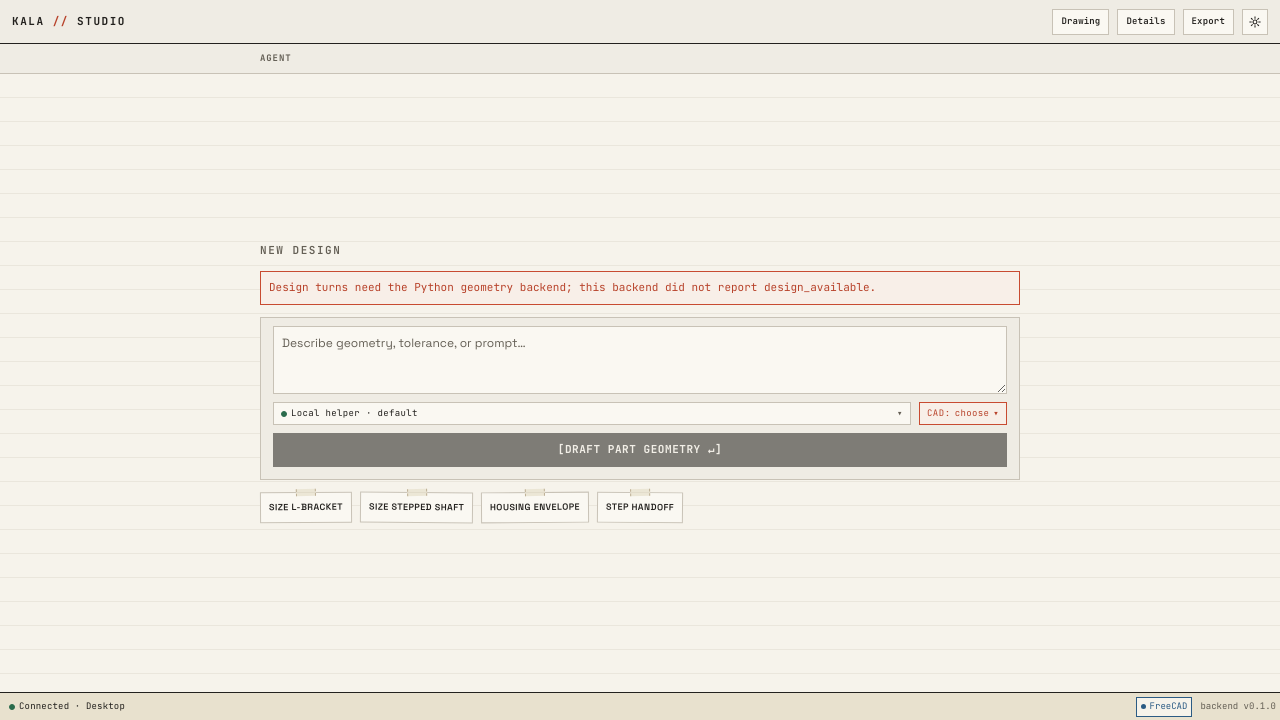
Scenario: status bar › opens the focused Export dialog from the top bar
Click the button "Export" at (1208,22), box [1182,8,1234,34]
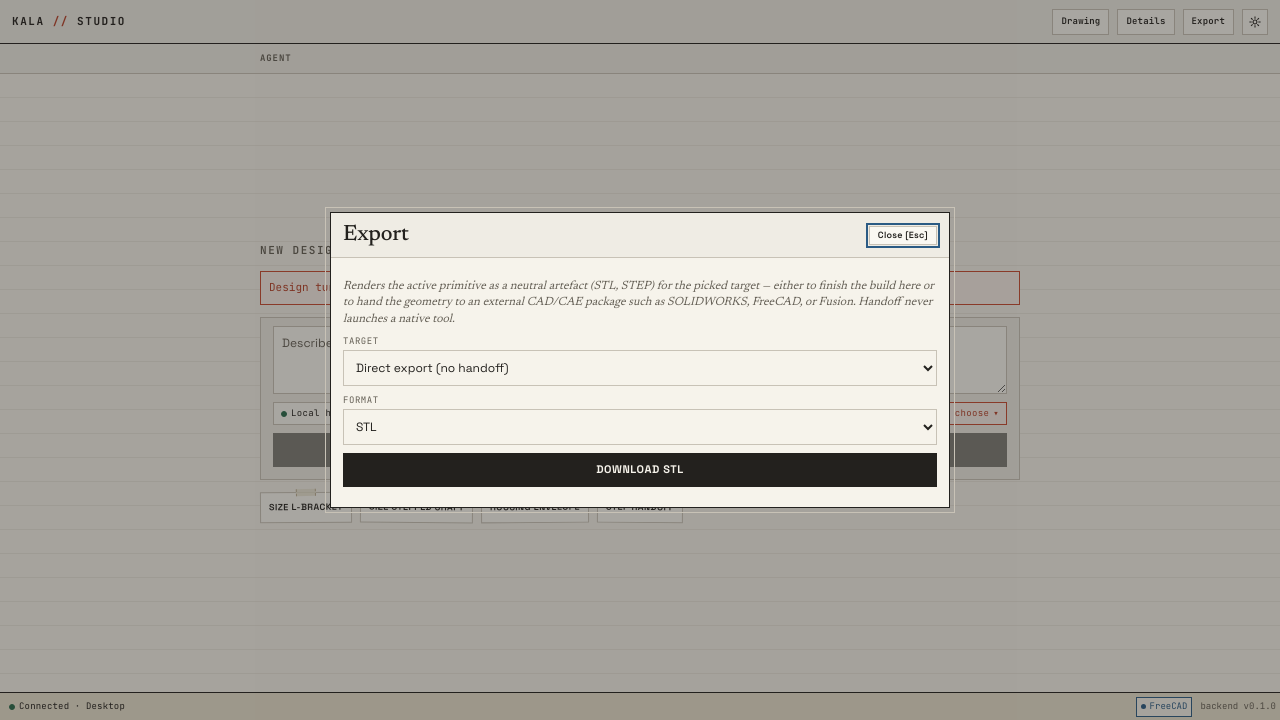
Expected: the dialog with class "export-dialog" is shown, [330,212,950,508]
Expected: the dialog with class "export-dialog" shows "Export", [343,224,409,246]
Expected: the element with class "export-panel" is shown, [343,278,937,487]
Press Escape
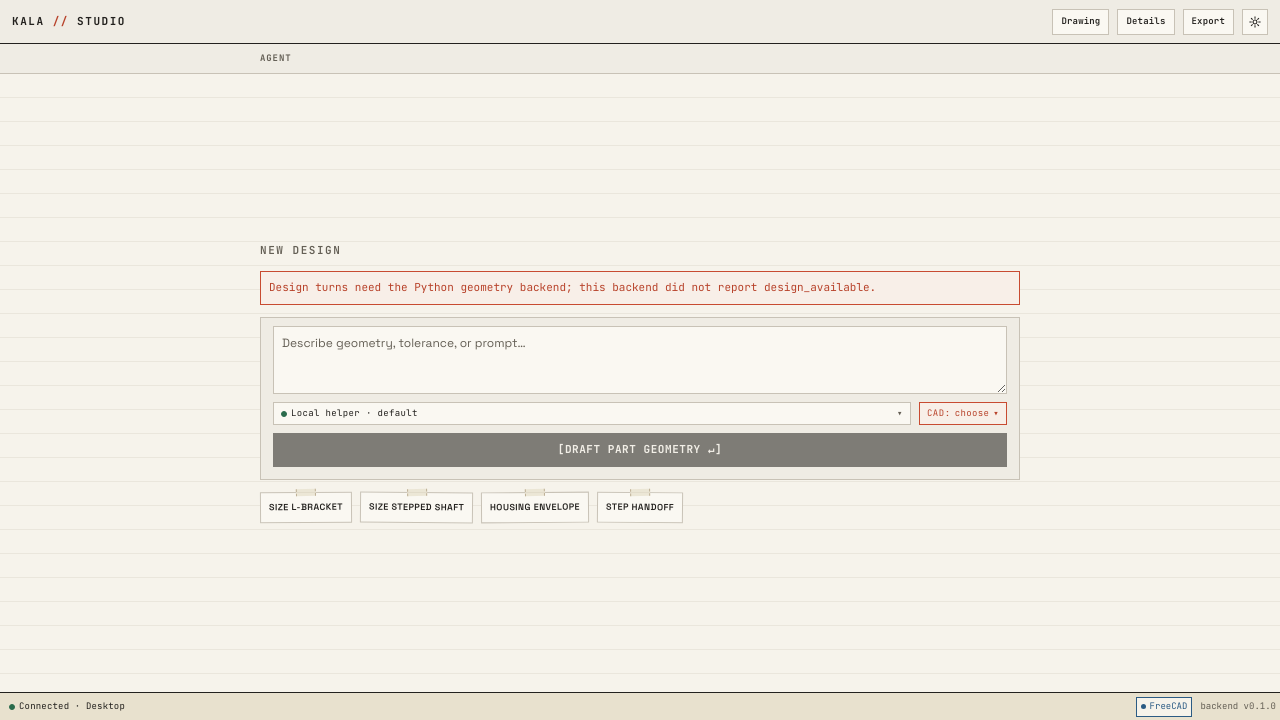
Expected: the dialog with class "export-dialog" is gone
